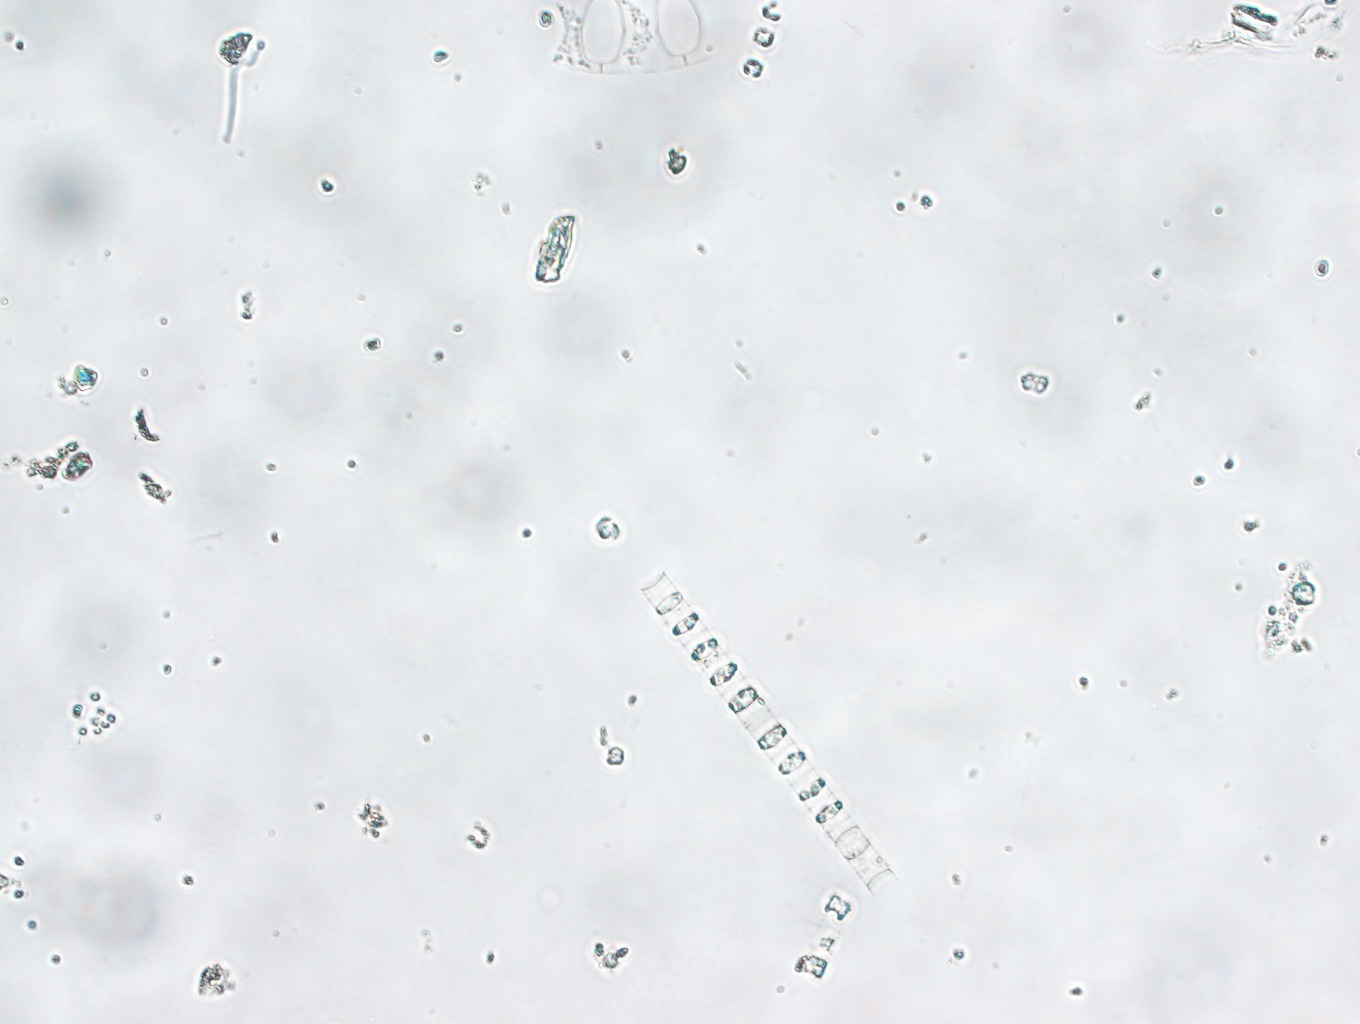skeletonema: (625, 568, 899, 898)
